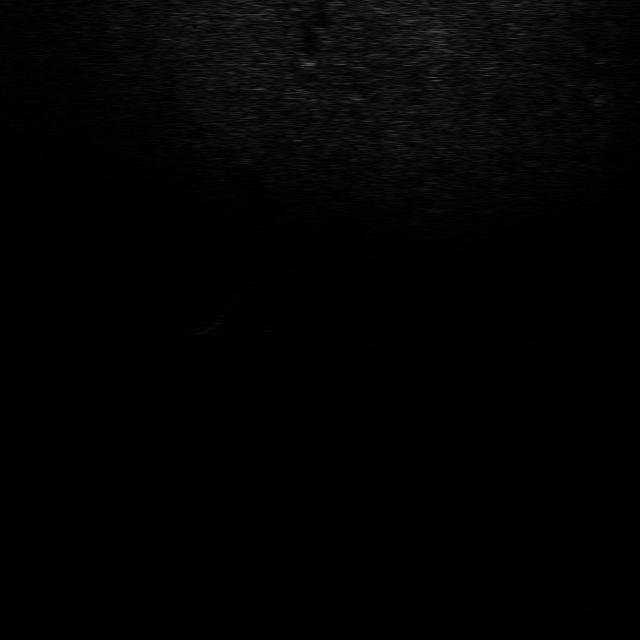human body: (185, 283, 246, 336)
